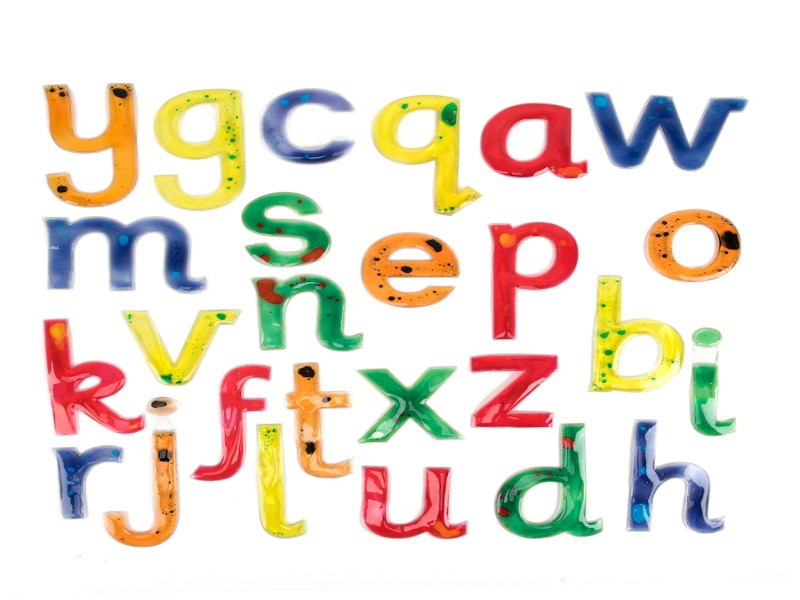letter: (578, 45, 771, 179), (22, 66, 154, 211), (481, 56, 592, 200), (153, 50, 245, 217), (494, 415, 610, 545), (379, 78, 482, 222), (21, 214, 209, 290), (619, 414, 732, 535), (580, 276, 688, 396), (42, 313, 145, 435), (191, 360, 278, 490), (487, 220, 582, 338), (256, 77, 367, 173), (118, 303, 245, 386), (359, 457, 470, 551), (103, 431, 185, 554), (359, 355, 465, 450), (281, 354, 358, 483), (354, 228, 471, 308), (631, 206, 758, 274), (472, 340, 561, 436), (239, 186, 328, 266), (681, 313, 736, 441), (31, 444, 124, 517), (255, 418, 302, 542)
